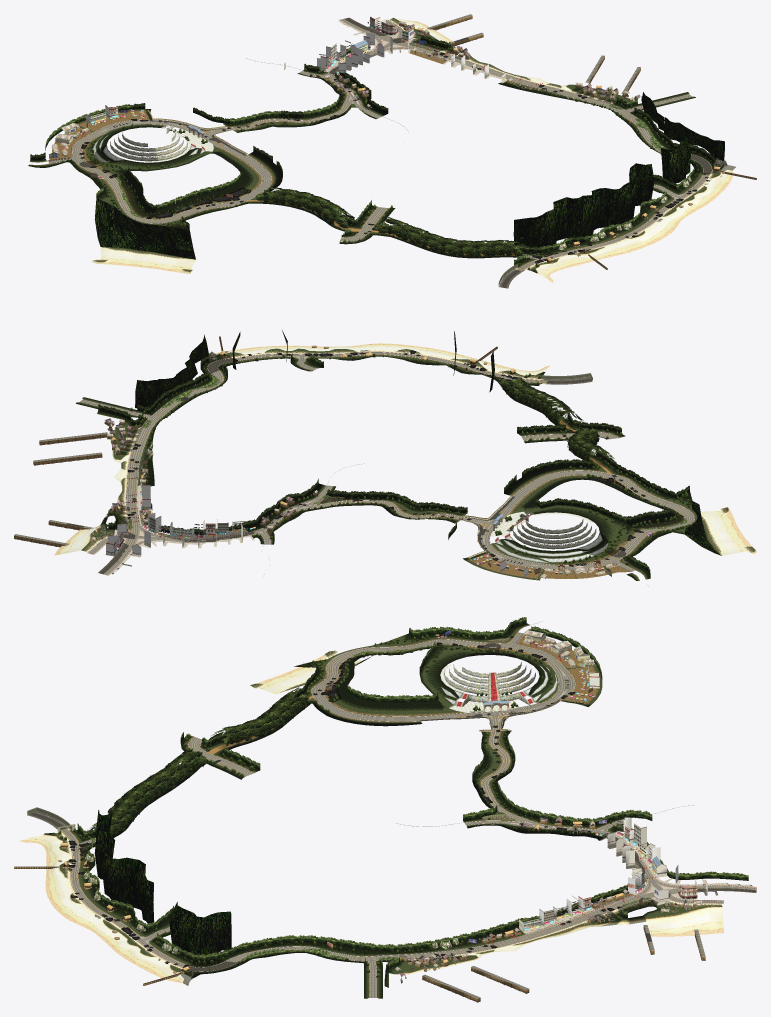
Rendered from track-AS_C3_V1.glb.
3 views of the same model, one above another, from view 1: azimuth 30°, elevation 25°; view 2: azimuth 150°, elevation 25°; view 3: azimuth 270°, elevation 25° (orthographic). The views are drawn at different scales.
Parts seen in each view (by area): view 1: AS_C3_V1; view 2: AS_C3_V1; view 3: AS_C3_V1.
Boxes of the visible parts, x1,y1,x2,y2 form: AS_C3_V1: (28, 14, 756, 288); AS_C3_V1: (14, 330, 756, 580); AS_C3_V1: (14, 617, 756, 1002).
Size of the model in its own units: 2132 by 198 by 1894.
Materials: 86 (85 with a texture image).
